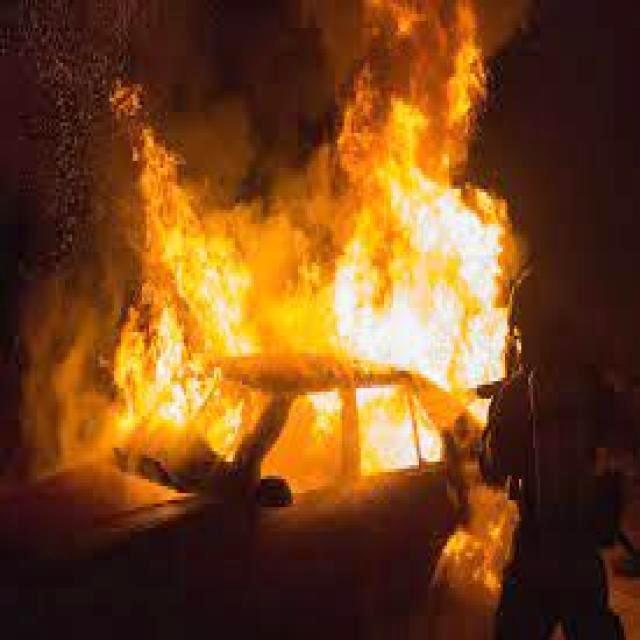fire: (100, 1, 556, 483), (449, 507, 508, 593)
